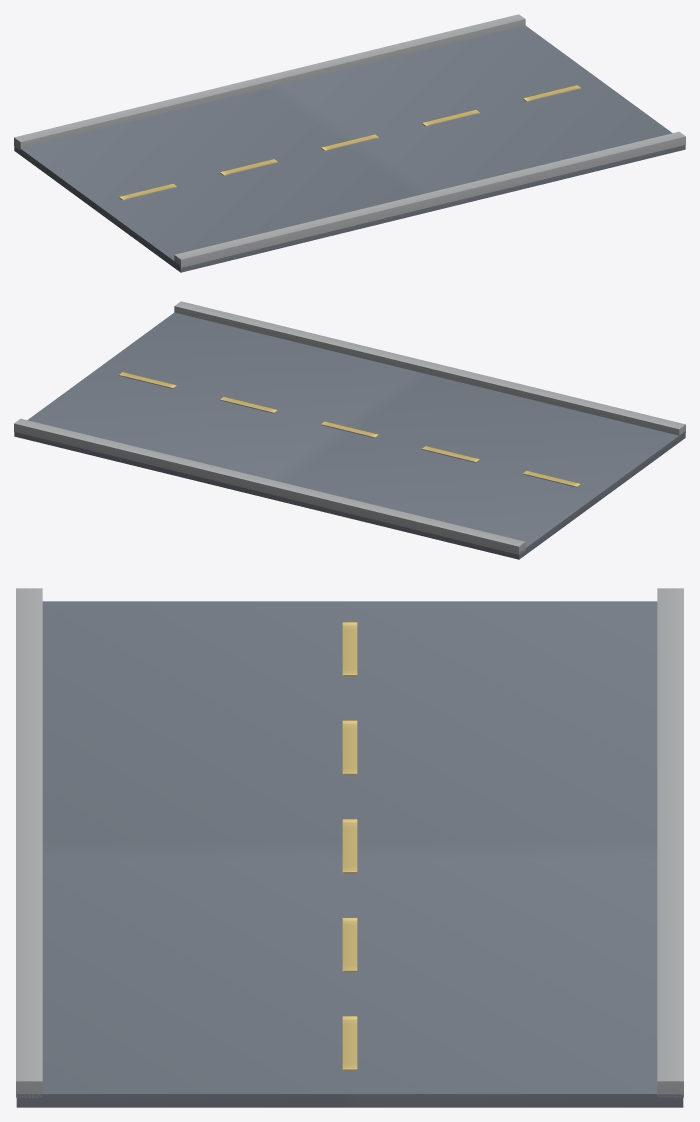
Rendered from road_straight.glb.
The picture shows the model from 3 angles, top to bottom: view 1: azimuth 30°, elevation 25°; view 2: azimuth 150°, elevation 25°; view 3: azimuth 270°, elevation 25°; orthographic projection. The views are drawn at different scales.
Visible parts, largest first — view 1: road_straight; view 2: road_straight; view 3: road_straight.
Boxes of the visible parts, x1=… form: road_straight: x1=14, y1=14, x2=685, y2=272; road_straight: x1=14, y1=301, x2=685, y2=559; road_straight: x1=16, y1=588, x2=683, y2=1107.
Size of the model in its own units: 14 by 0.35 by 8.02.
Materials: 1 (1 with a texture image).
